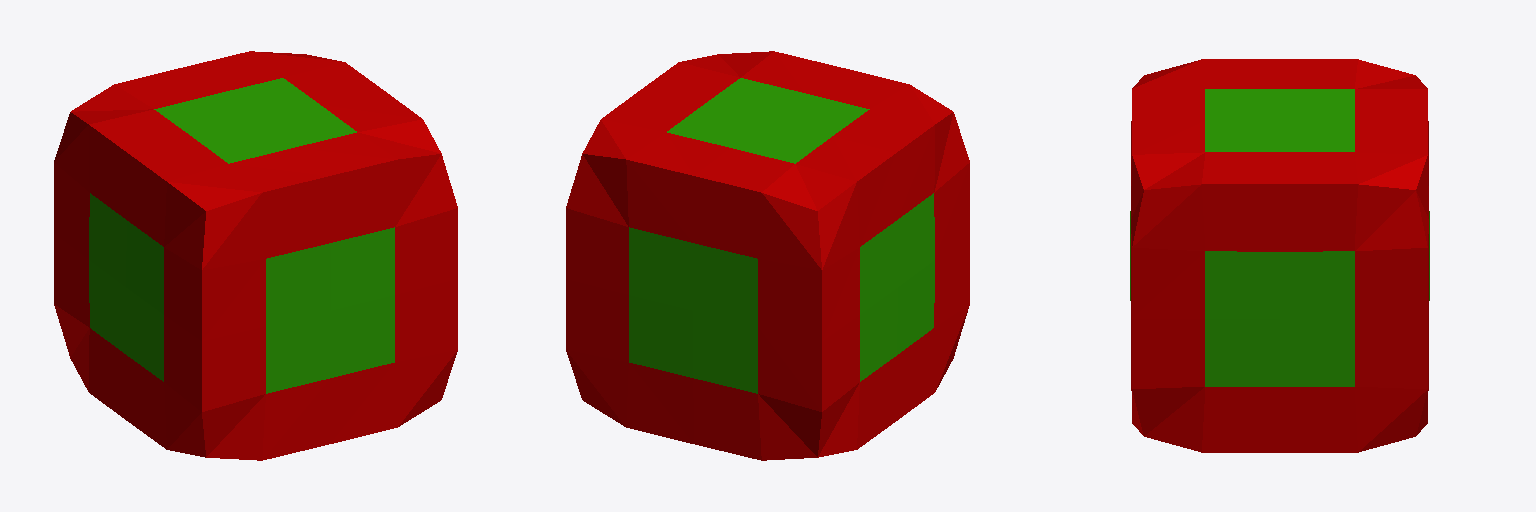
The model's file is floorCube2.obj.
3 renders of one model, left to right at view 1: azimuth 30°, elevation 25°; view 2: azimuth 150°, elevation 25°; view 3: azimuth 270°, elevation 25°, orthographic.
Parts seen in each view (by area): view 1: Cube_Cube.001; view 2: Cube_Cube.001; view 3: Cube_Cube.001.
Boxes of the visible parts, x1=… form: Cube_Cube.001: x1=54, y1=51, x2=457, y2=460; Cube_Cube.001: x1=566, y1=51, x2=969, y2=460; Cube_Cube.001: x1=1130, y1=59, x2=1429, y2=452.
Size of the model in its own units: 4.37 by 4.37 by 4.37.